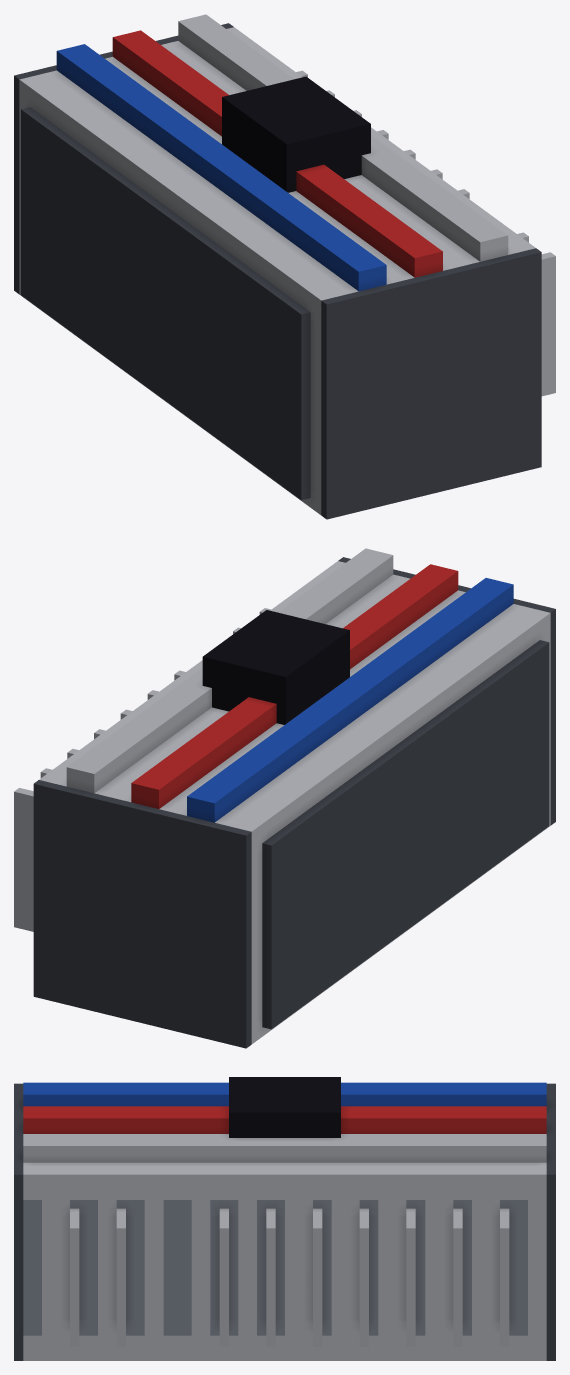
File: fuel_cell.glb
3 views of the same model, one above another, from view 1: azimuth 30°, elevation 25°; view 2: azimuth 150°, elevation 25°; view 3: azimuth 270°, elevation 25° (orthographic). The views are drawn at different scales.
Parts seen in each view (by area): view 1: fuel_cell; view 2: fuel_cell; view 3: fuel_cell.
Boxes of the visible parts, left/top/right/bottom form: fuel_cell: left=14, top=14, right=555, bottom=519; fuel_cell: left=14, top=548, right=555, bottom=1048; fuel_cell: left=14, top=1077, right=555, bottom=1360.
Size of the model in its own units: 0.4531 by 0.4219 by 0.9062.
